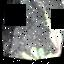Purslane: (5, 0, 64, 63)
